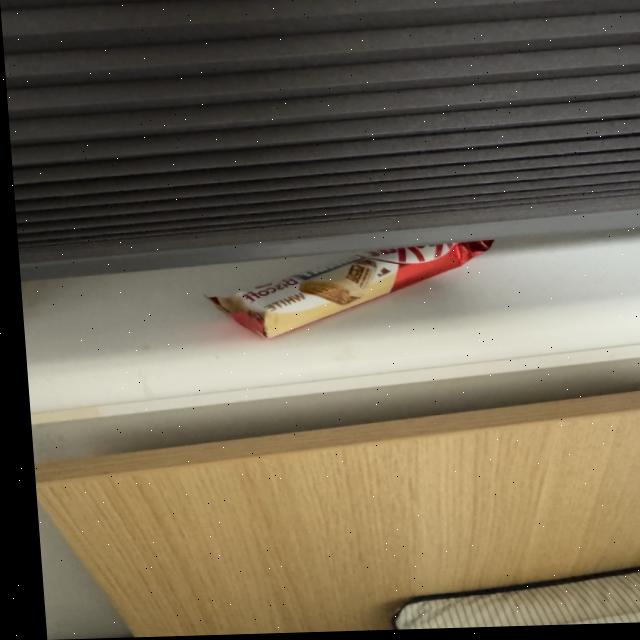chocolate: (193, 234, 495, 345)
